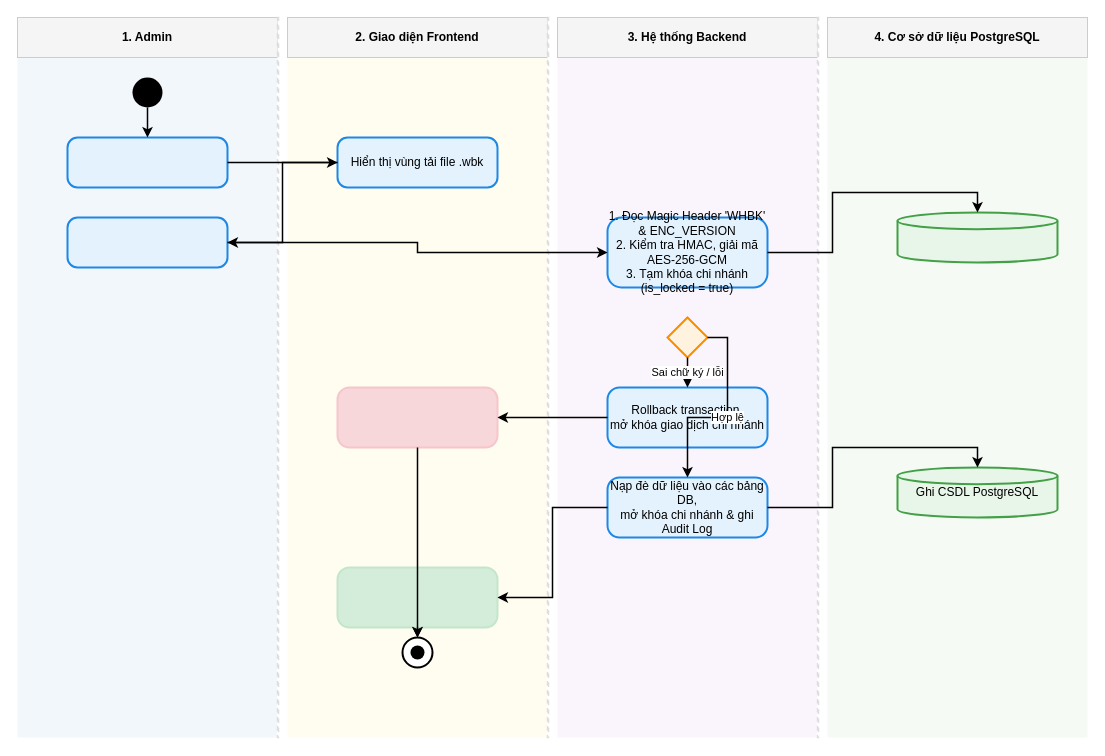
This 1105x756 diagram has some shape labels left out. Each missing label, with the box of its shape:
Báo lỗi file hỏng/sai chữ ký/sai CN: (336, 386, 498, 448)
Cập nhật status is_locked = True: (896, 211, 1058, 263)
Mở menu Phục hồi dữ liệu: (66, 136, 228, 188)
Thông báo phục hồi dữ liệu thành công: (336, 566, 498, 628)
Tải file backup .wbk lên: (66, 216, 228, 268)
